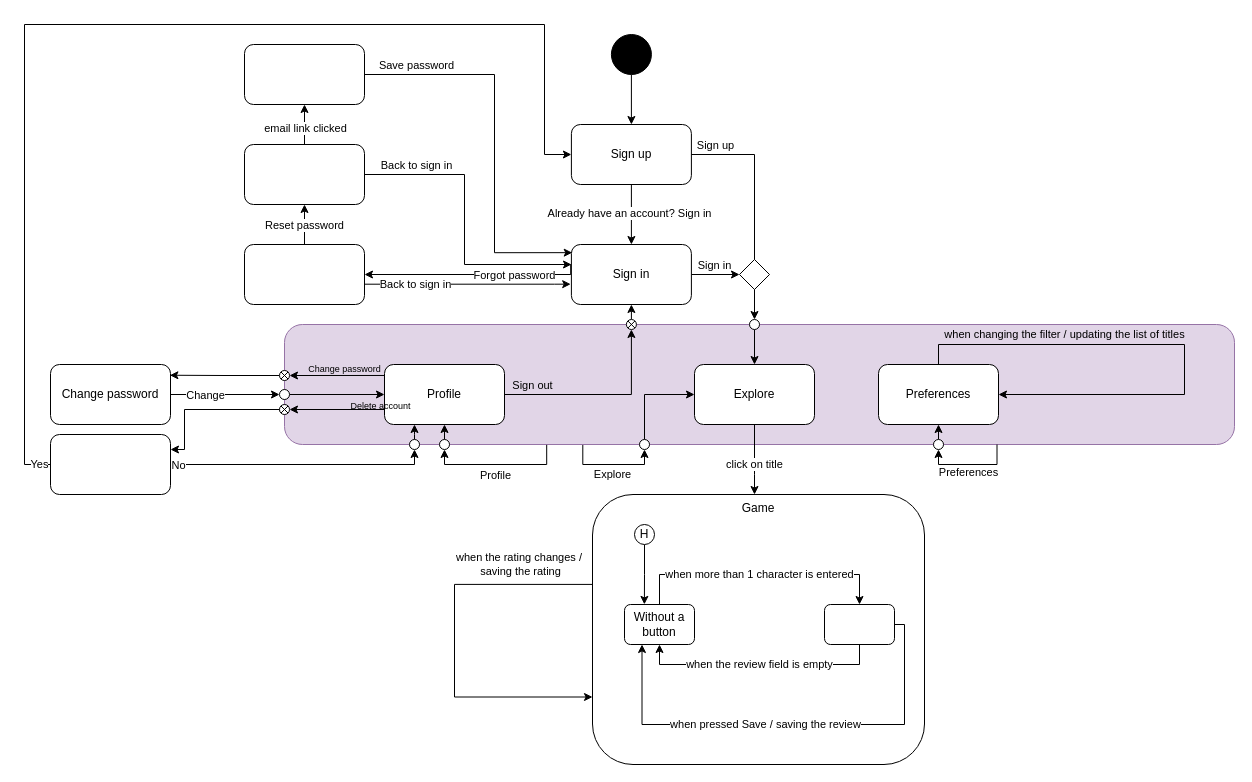
Image size: 1252x782. Some labels were removed from this diagram. Here are the shapes that lost their labels. From the top down, the centre of each, then its label:
At pixel 304 74: "Password reset confirmation".
At pixel 304 174: "Password reset pending".
At pixel 304 274: "Password reset request".
At pixel 110 464: "Warning".
At pixel 859 624: "With a button".
